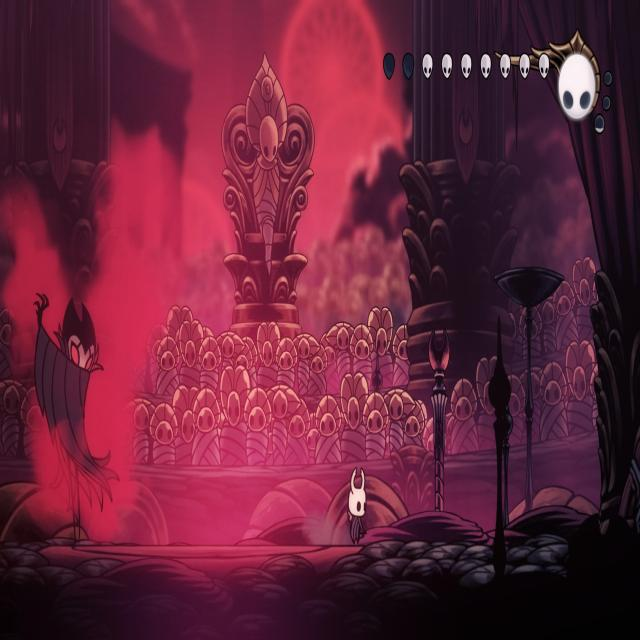Grimm: (26, 291, 120, 549)
Player: (345, 463, 367, 549)
